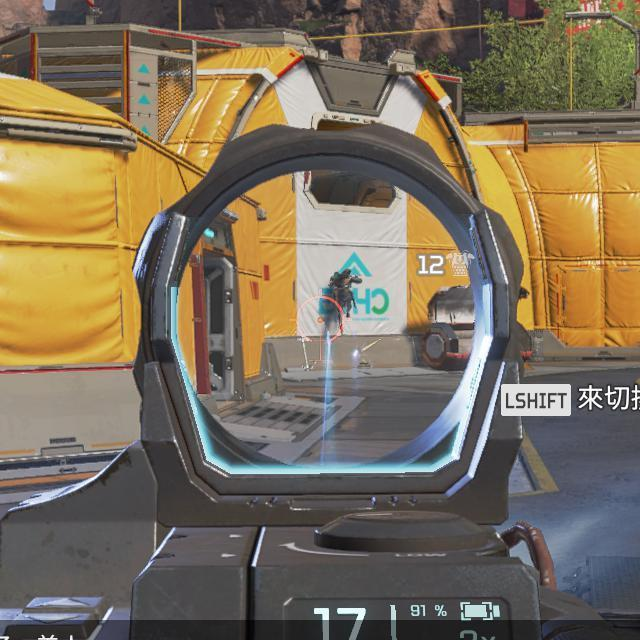avatar: (327, 268, 363, 336)
